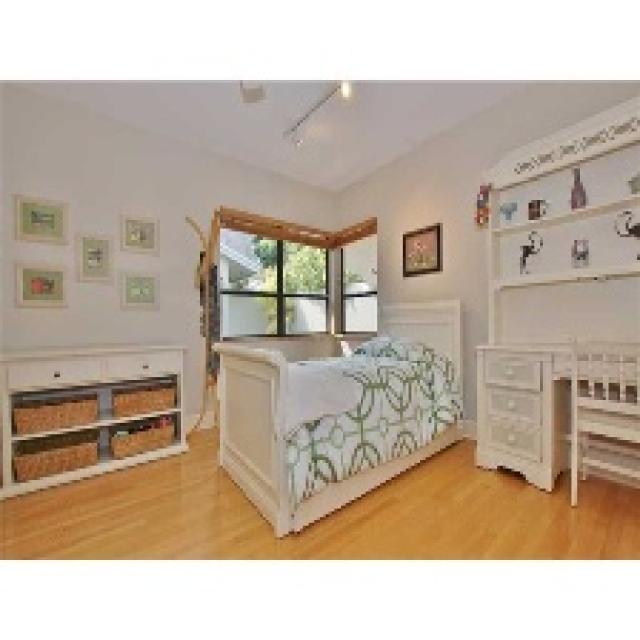Bed: (211, 297, 463, 537)
